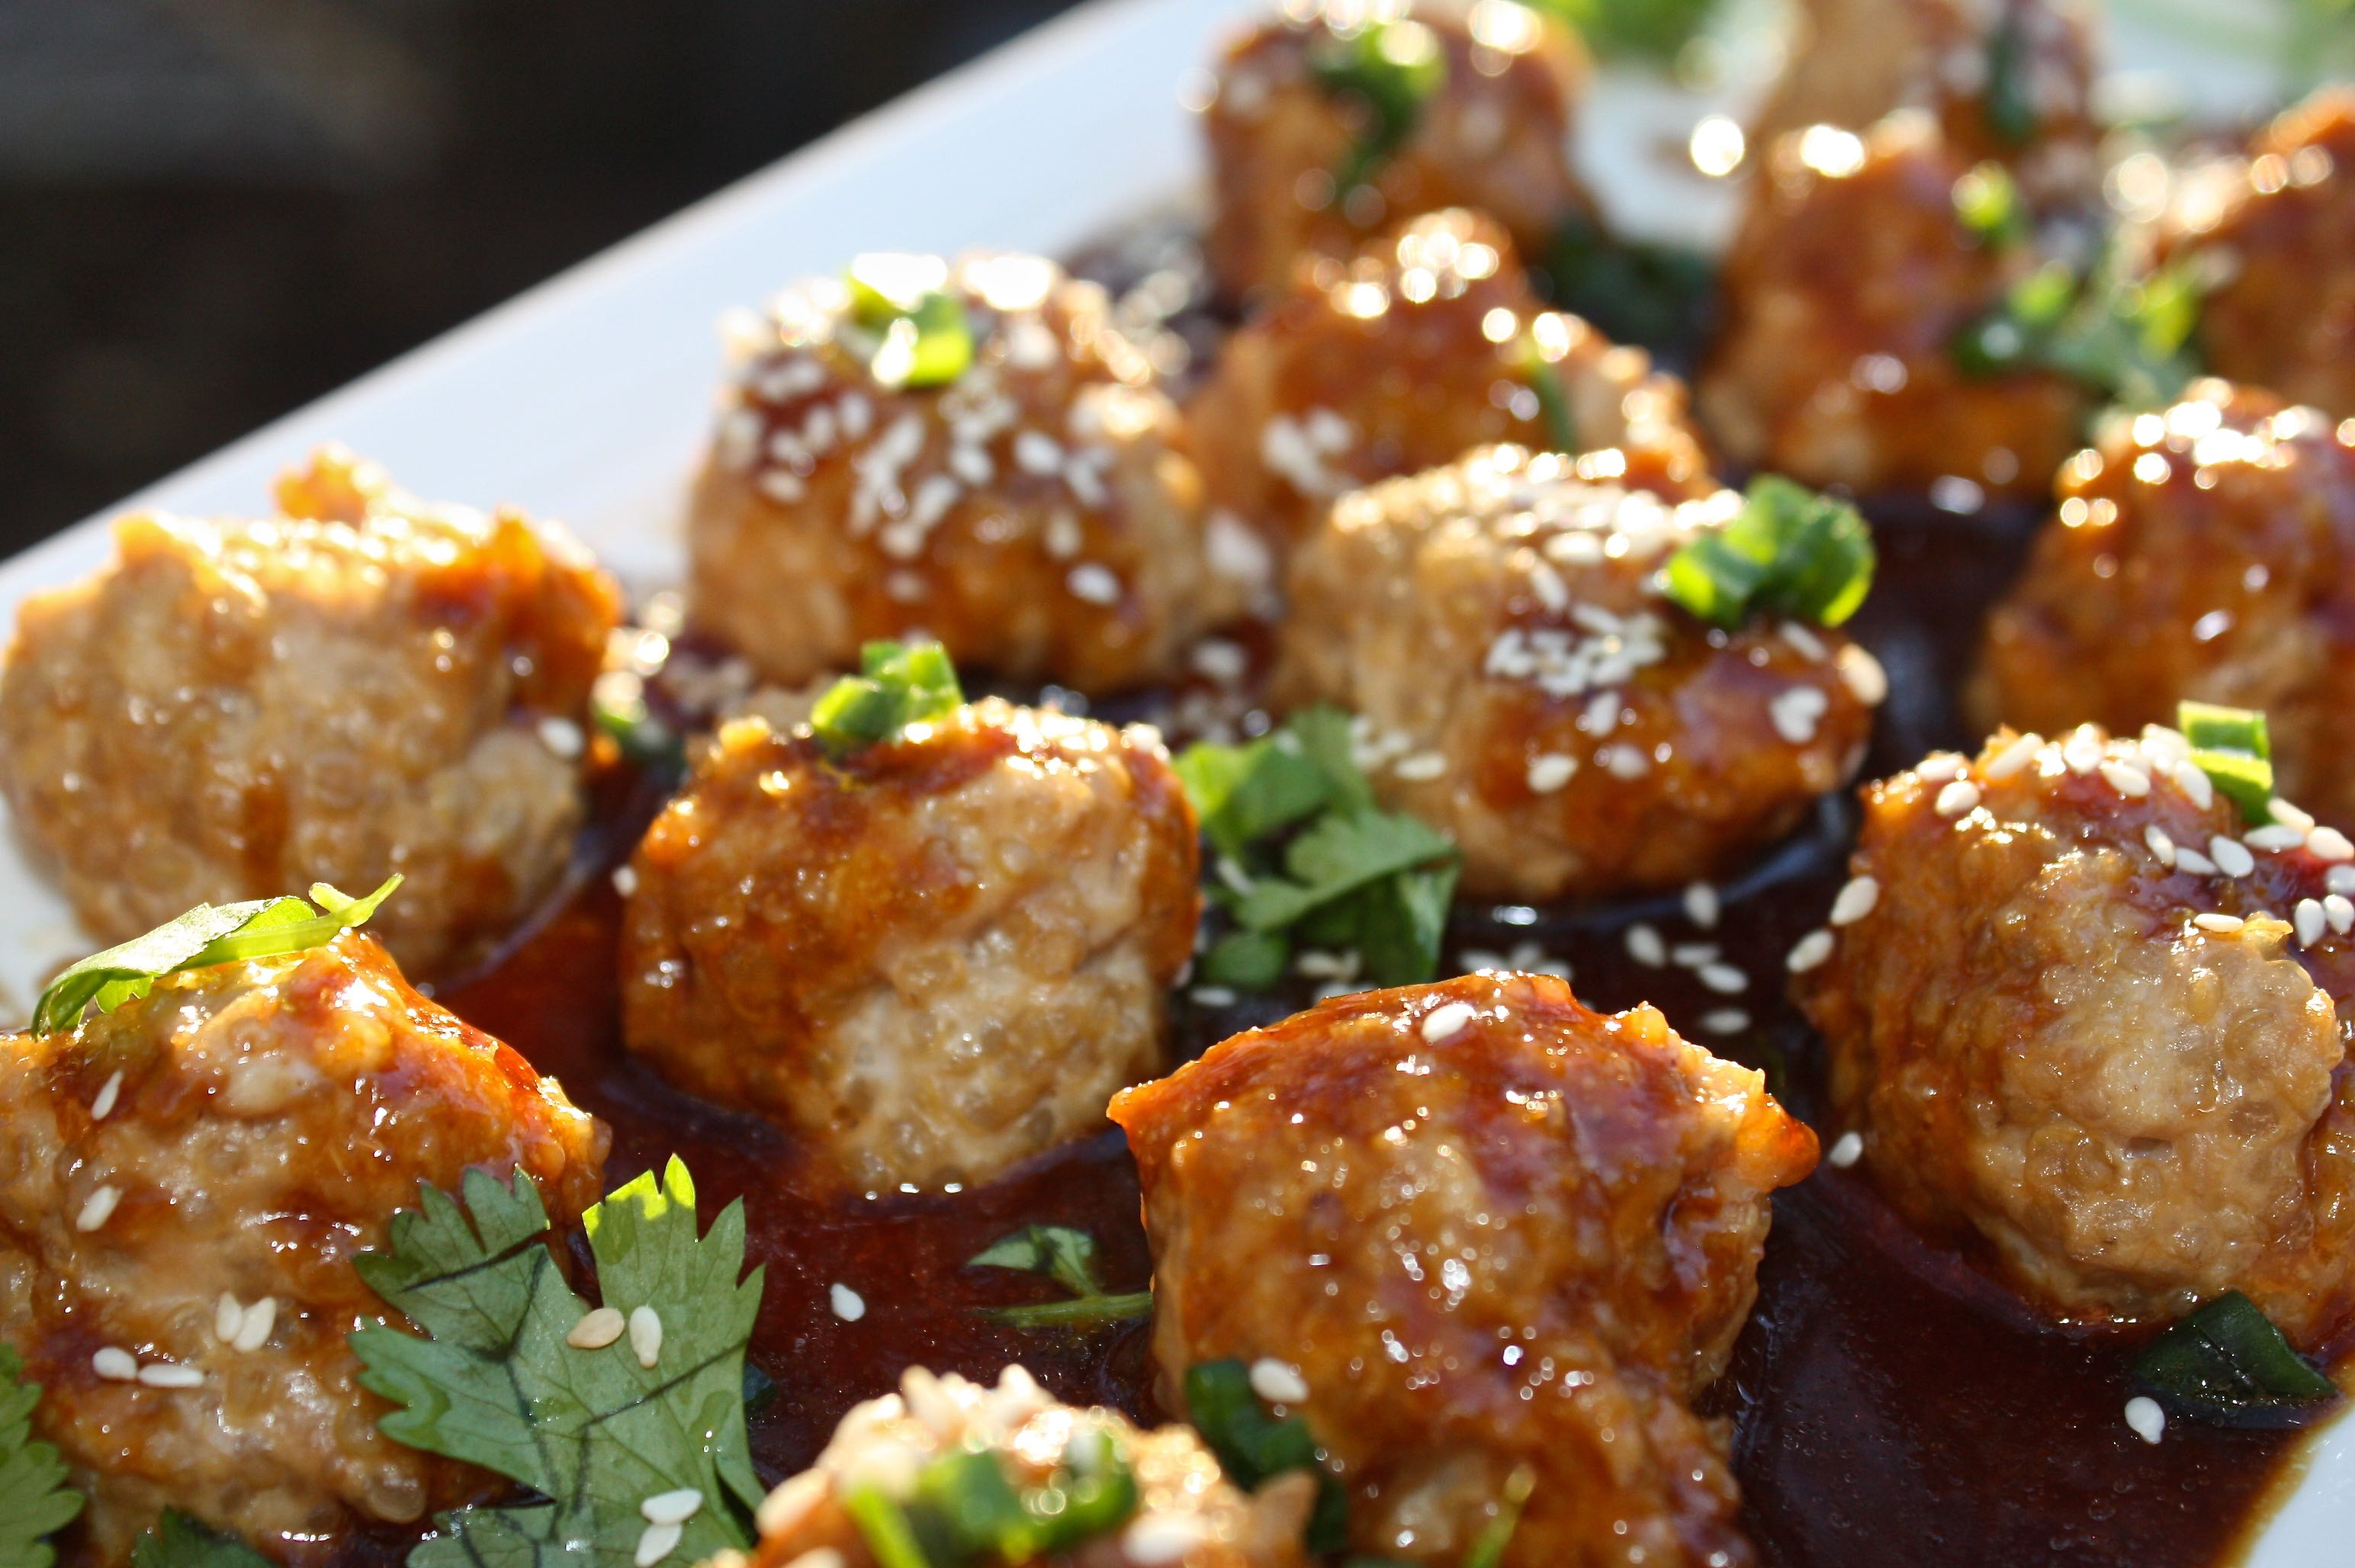meatballs: (1109, 978, 1744, 1568), (5, 978, 584, 1503), (1862, 730, 2346, 1298), (635, 705, 1136, 1192), (1296, 483, 1848, 894), (30, 551, 614, 912), (1995, 422, 2355, 747)
